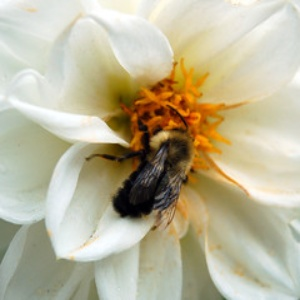bee: (112, 122, 196, 224)
